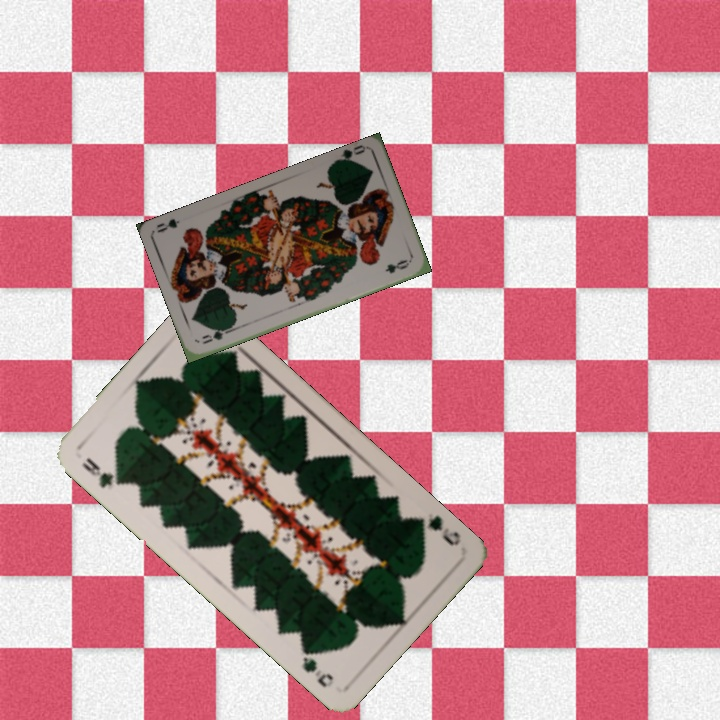G9: (410, 509, 464, 548), (78, 453, 129, 491)
GO: (330, 142, 368, 166), (198, 323, 235, 347)
